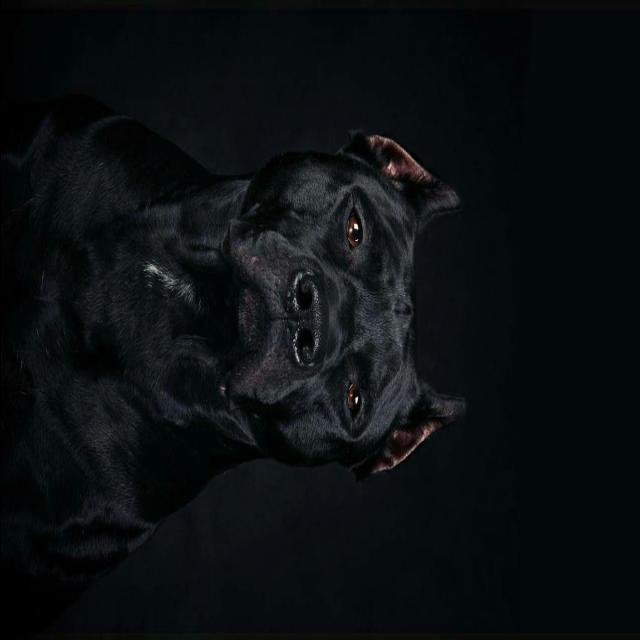Dogs: (0, 56, 480, 616)
